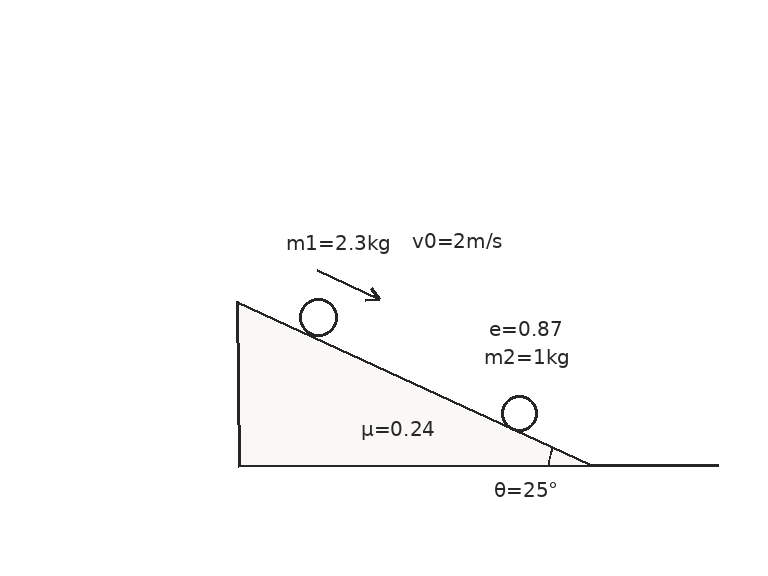ball: (297, 296, 339, 338), (499, 393, 539, 433)
ramp: (236, 299, 591, 467)
